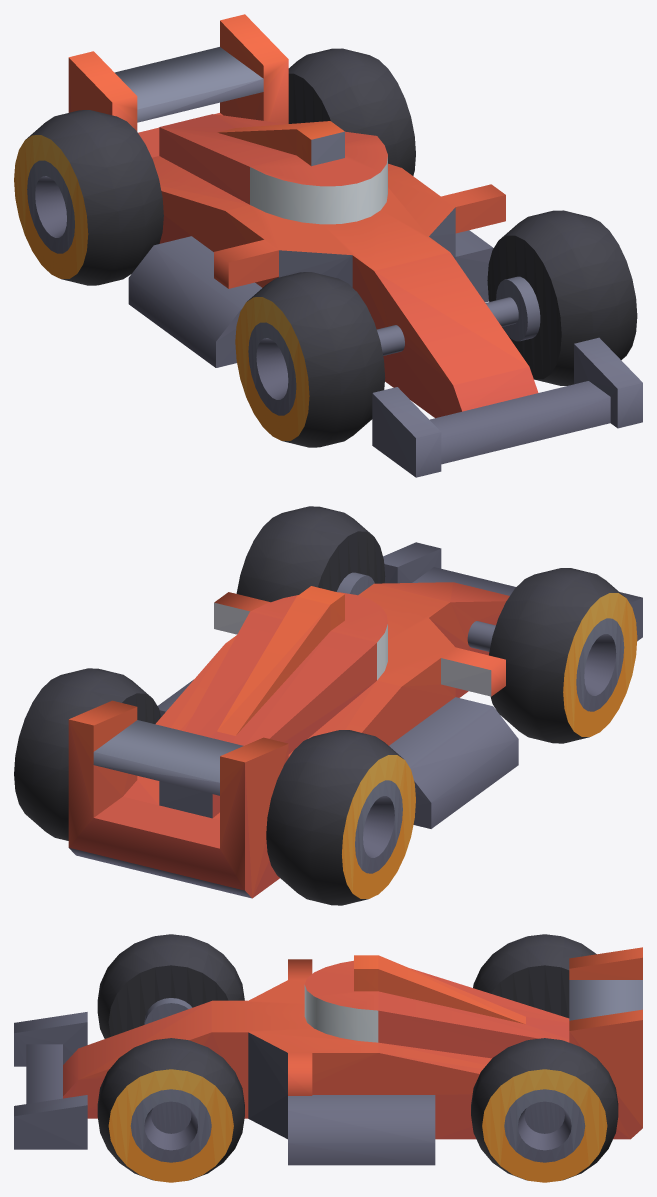
File: race-18932d6e4d.glb
3 views of the same model, one above another, from view 1: azimuth 30°, elevation 25°; view 2: azimuth 150°, elevation 25°; view 3: azimuth 270°, elevation 25° (orthographic). The views are drawn at different scales.
Visible parts, largest first — view 1: body, WheelRearR, WheelFrontR, WheelFrontL, WheelRearL; view 2: body, WheelRearR, WheelFrontR, WheelRearL, WheelFrontL; view 3: body, WheelRearL, WheelFrontL, WheelFrontR, WheelRearR.
Boxes of the visible parts, x1,y1,x2,y2 form: body: (68, 14, 642, 477); WheelRearR: (14, 110, 163, 285); WheelFrontR: (235, 272, 385, 447); WheelFrontL: (487, 210, 637, 385); WheelRearL: (288, 48, 415, 175); body: (68, 542, 642, 898); WheelRearR: (266, 730, 415, 905); WheelFrontR: (489, 568, 637, 743); WheelRearL: (14, 668, 161, 840); WheelFrontL: (236, 506, 385, 602); body: (14, 947, 642, 1165); WheelRearL: (471, 1038, 618, 1182); WheelFrontL: (97, 1038, 244, 1182); WheelFrontR: (97, 934, 244, 1038); WheelRearR: (473, 934, 596, 1018).
Size of the model in its own units: 2.29 by 1.29 by 4.5.
